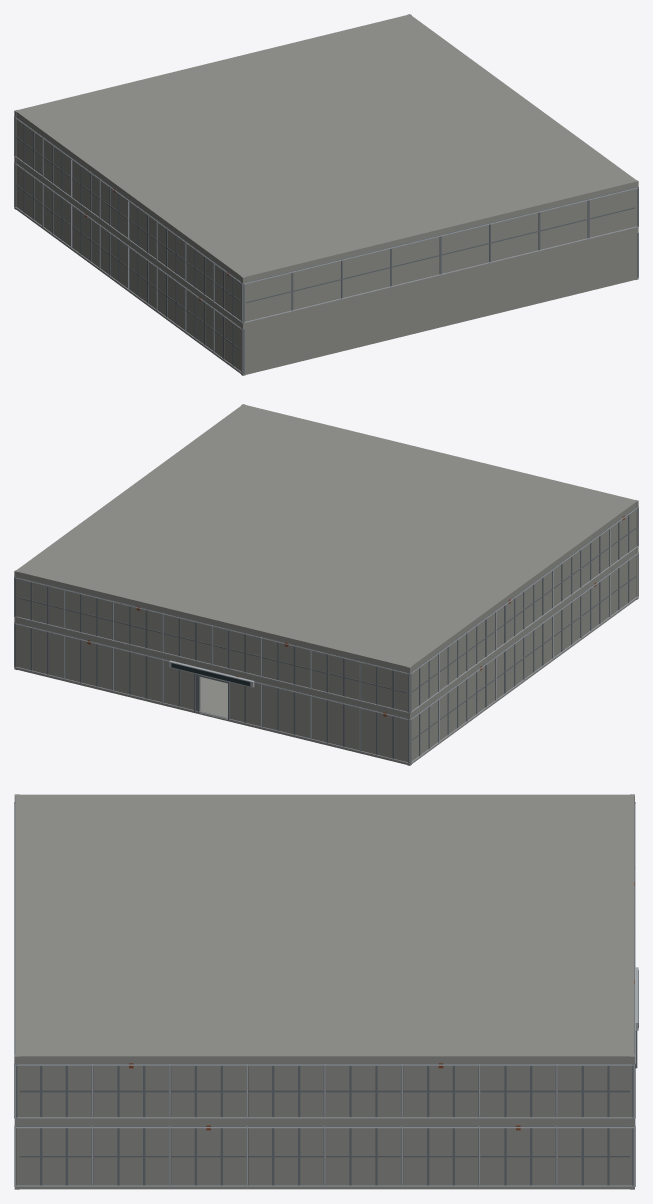
Rendered from tw_glass_32_base.glb.
3 views of the same model, one above another, from view 1: azimuth 30°, elevation 25°; view 2: azimuth 150°, elevation 25°; view 3: azimuth 270°, elevation 25° (orthographic). The views are drawn at different scales.
Parts seen in each view (by area): view 1: tw_glass_32_base; view 2: tw_glass_32_base; view 3: tw_glass_32_base.
Boxes of the visible parts, x1,y1,x2,y2 form: tw_glass_32_base: (14,14,638,375); tw_glass_32_base: (14,404,638,765); tw_glass_32_base: (14,794,638,1189).
Size of what is drawn, in the model's own units: 32.14 by 7.6 by 32.31.
3 materials, 3 textured.
